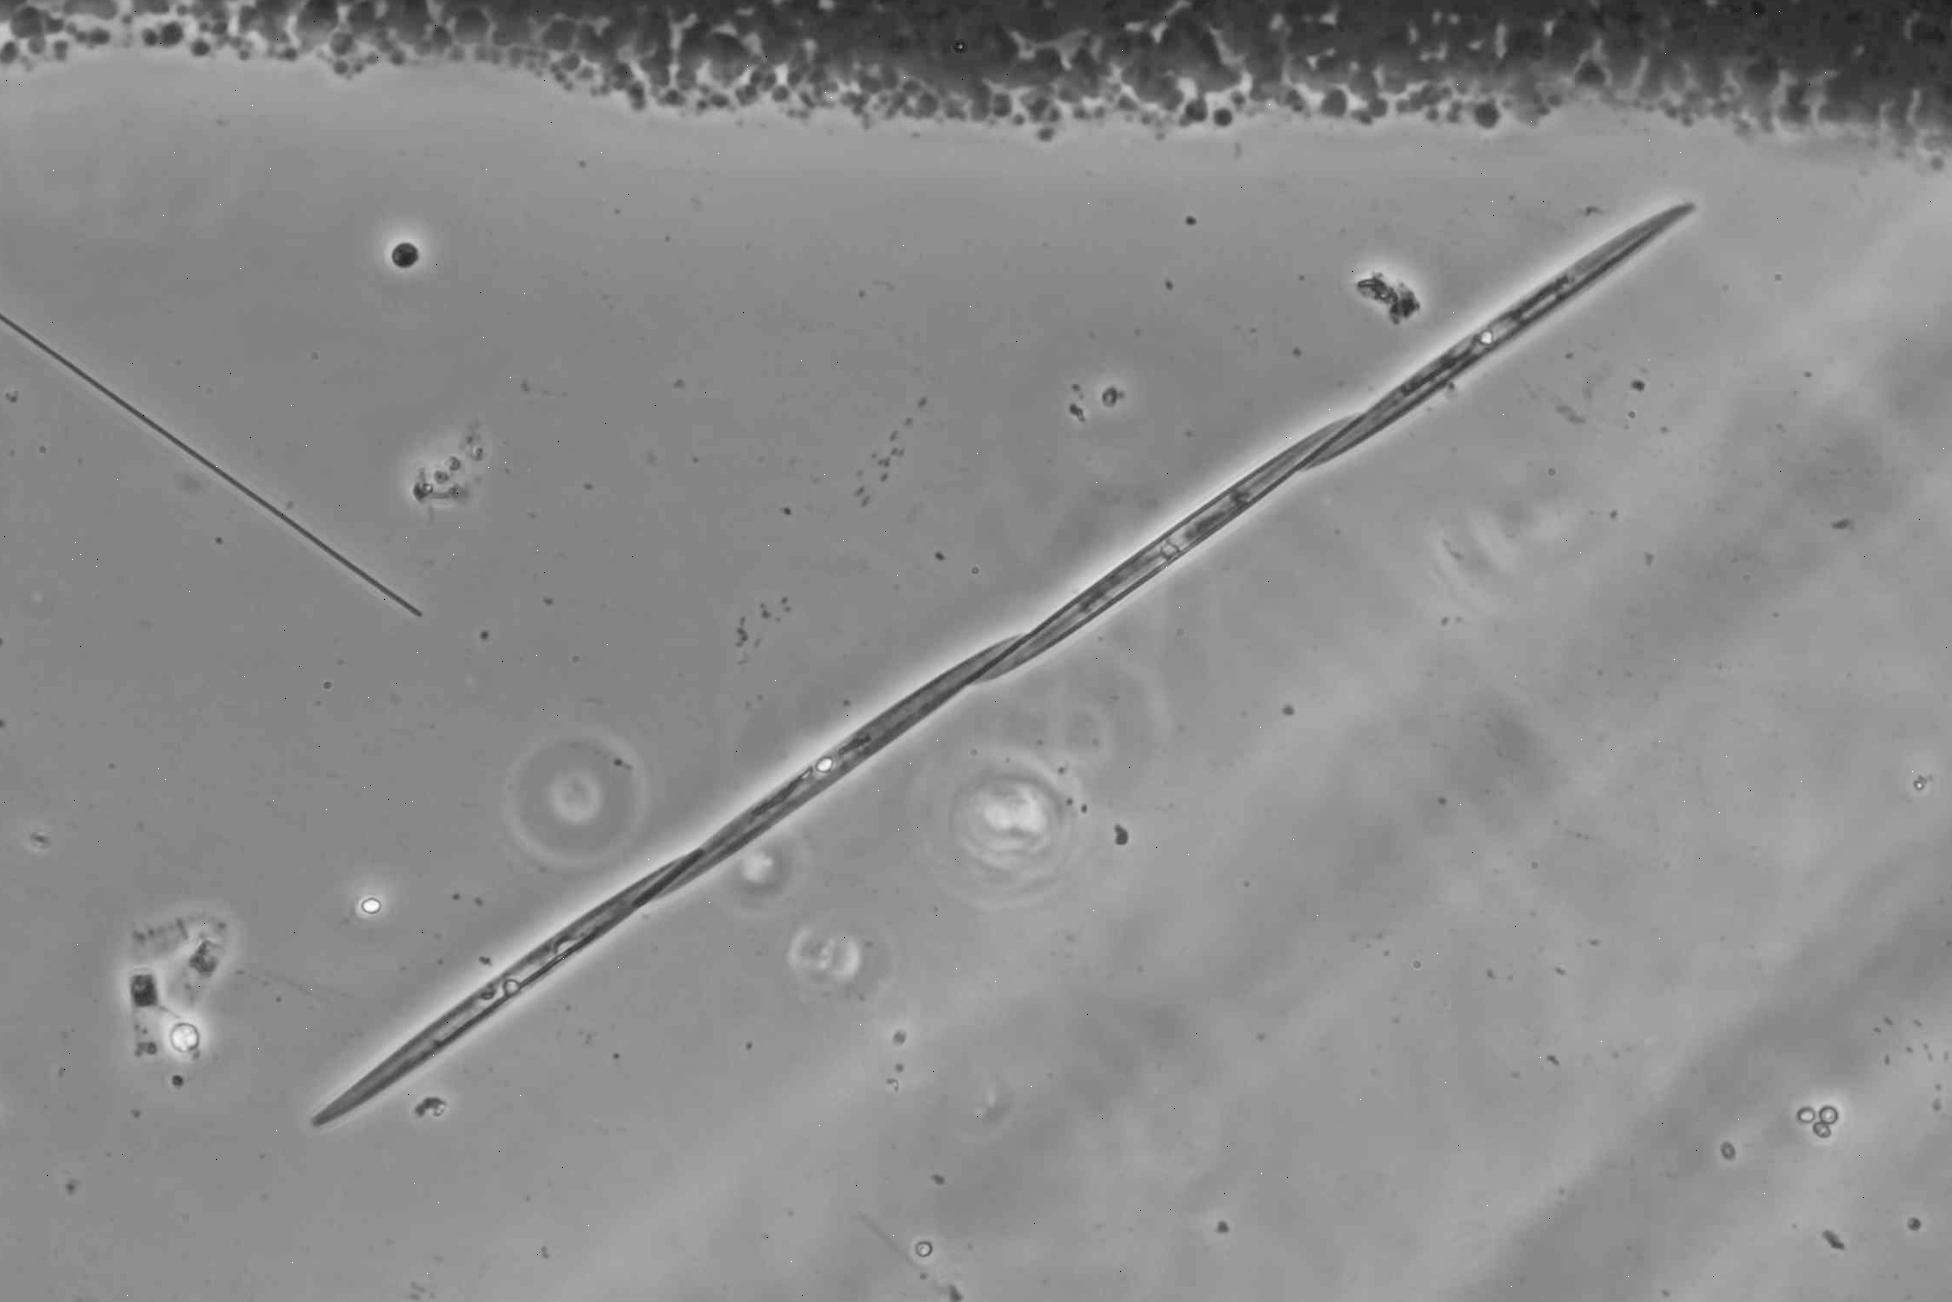pseudo_nitzschia: (311, 206, 1701, 1129)
